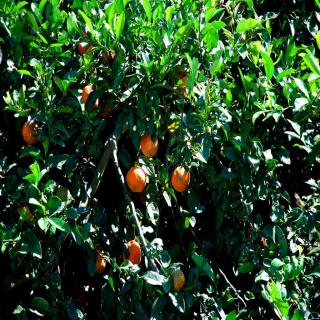Orange: (123, 168, 149, 197), (170, 162, 189, 191), (125, 240, 142, 266), (20, 124, 38, 145), (79, 82, 95, 104), (94, 93, 108, 117), (172, 266, 185, 289), (79, 43, 95, 56), (96, 252, 108, 264), (179, 71, 187, 87), (104, 46, 116, 56)
